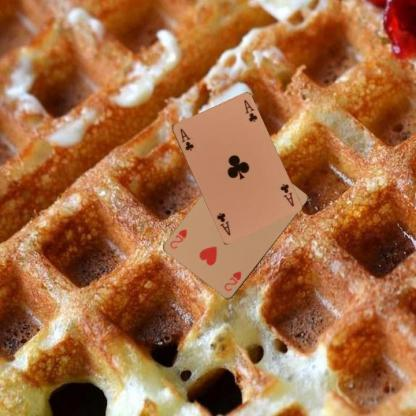2h: (221, 268, 244, 292)
Ac: (278, 180, 296, 208), (177, 125, 195, 152)
